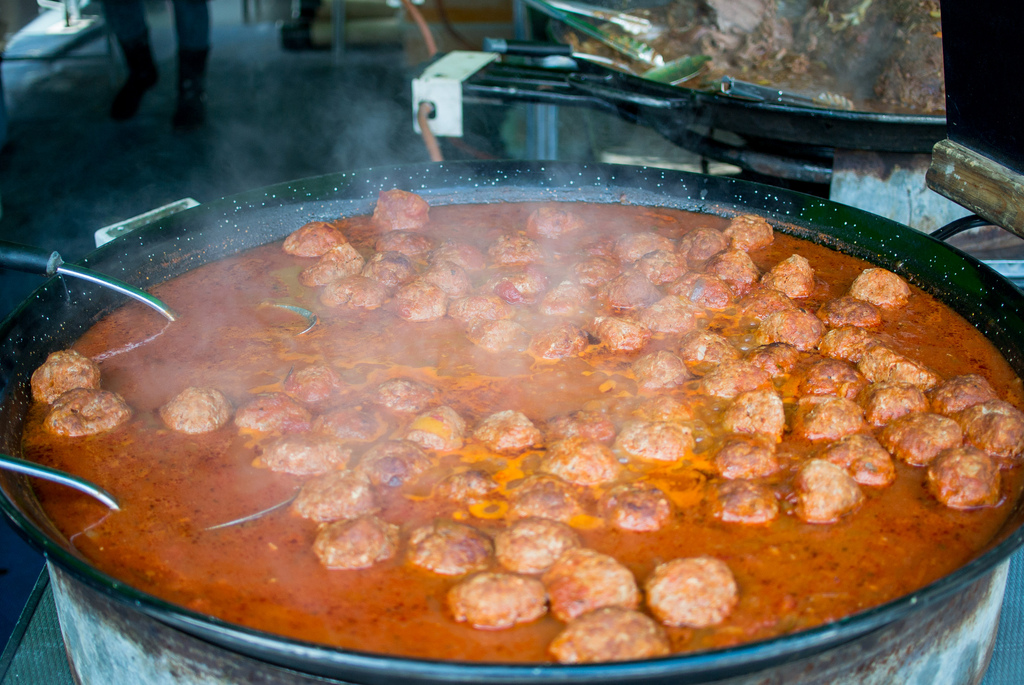meatballs: (50, 208, 1014, 657)
